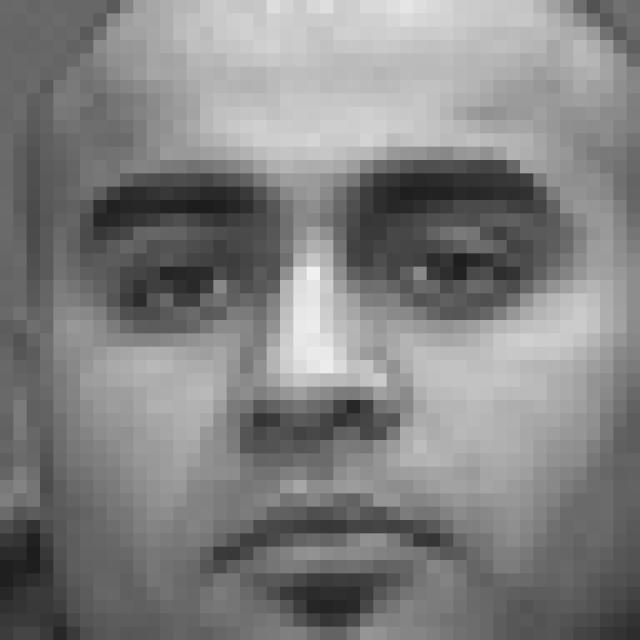neutral: (75, 149, 590, 614)
